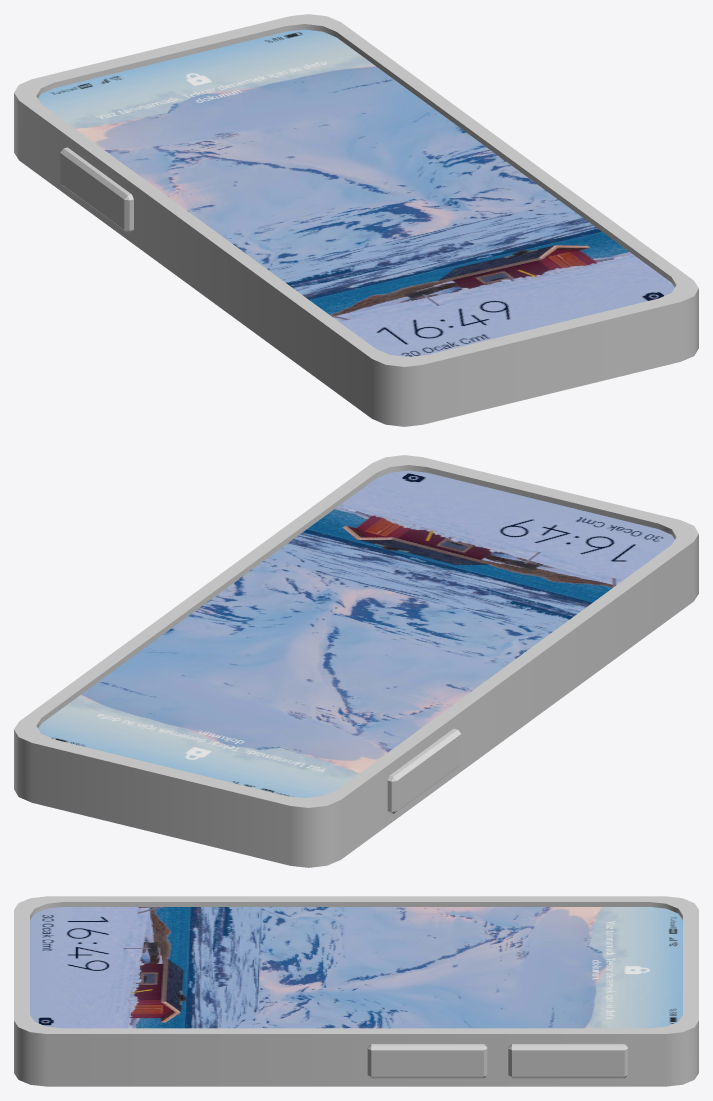
File: GGJ_Y_Tel.fbx
3 renders of one model, top to bottom at view 1: azimuth 30°, elevation 25°; view 2: azimuth 150°, elevation 25°; view 3: azimuth 270°, elevation 25°, orthographic. The views are drawn at different scales.
Visible parts, largest first — view 1: Y_Tel; view 2: Y_Tel; view 3: Y_Tel.
Boxes of the visible parts, x1,y1,x2,y2 form: Y_Tel: [14, 14, 698, 426]; Y_Tel: [14, 455, 698, 867]; Y_Tel: [14, 896, 698, 1086].
Size of the model in its own units: 51.95 by 8.84 by 104.
